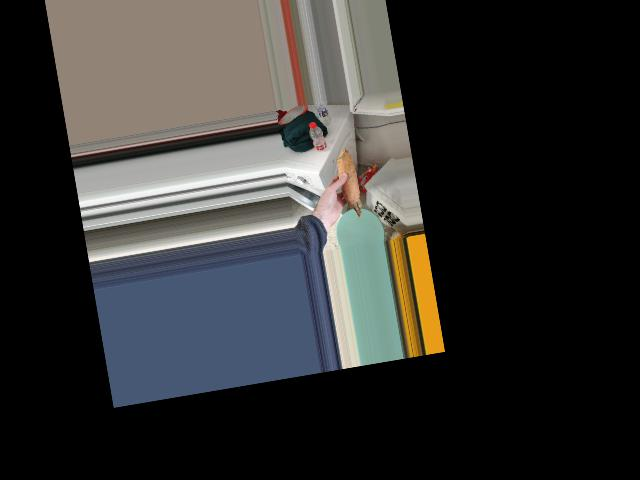sweet_potato: (331, 152, 365, 221)
